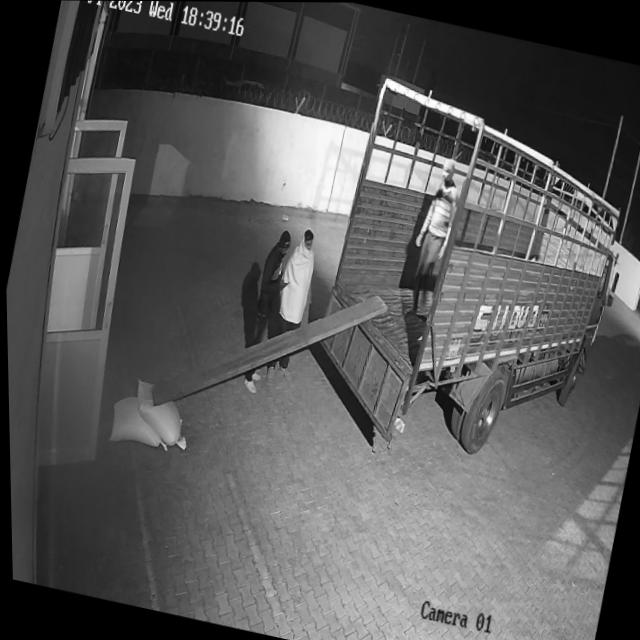sack: (124, 376, 196, 449), (103, 391, 174, 454)
